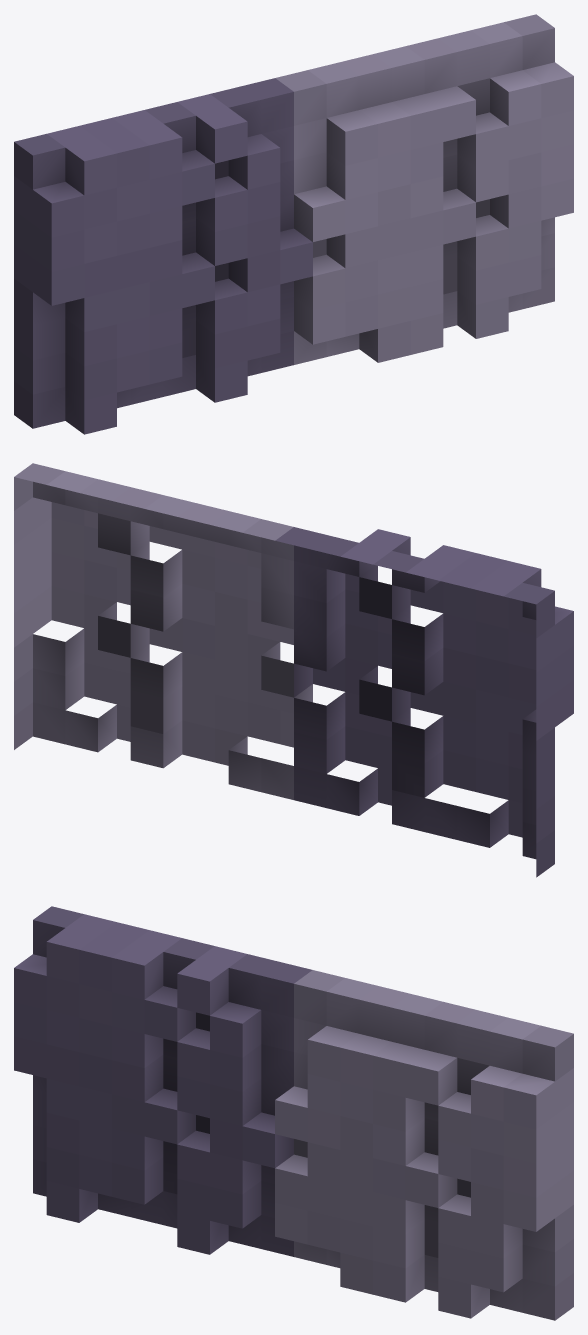
The model's file is ashlar_plain_0.glb.
3 renders of one model, top to bottom at view 1: azimuth 30°, elevation 25°; view 2: azimuth 150°, elevation 25°; view 3: azimuth 330°, elevation 25°, orthographic.
Visible parts, largest first — view 1: ashlar_plain_0; view 2: ashlar_plain_0; view 3: ashlar_plain_0.
Part boxes in pixels (x1,y1,x2,y2): ashlar_plain_0: [14, 14, 573, 434]; ashlar_plain_0: [14, 463, 573, 877]; ashlar_plain_0: [14, 906, 573, 1320].
Size of the model in its own units: 1 by 0.5 by 0.125.
